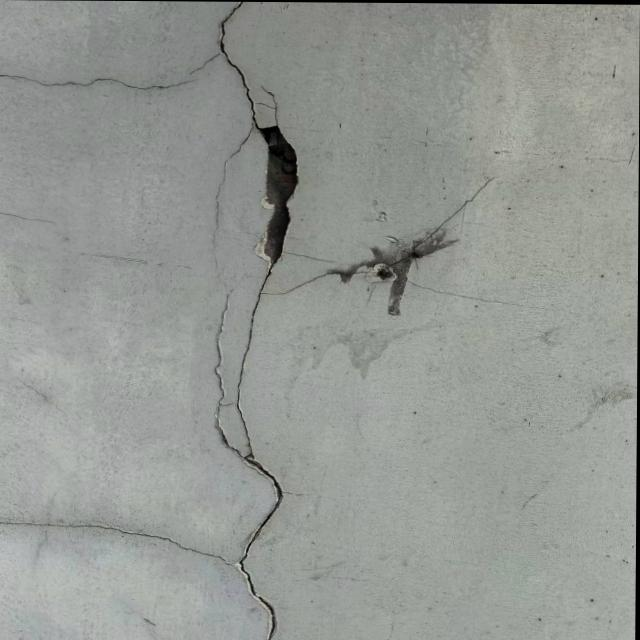crack: (0, 268, 294, 637), (5, 5, 264, 249)
spalling: (254, 127, 301, 263), (365, 261, 399, 284)
